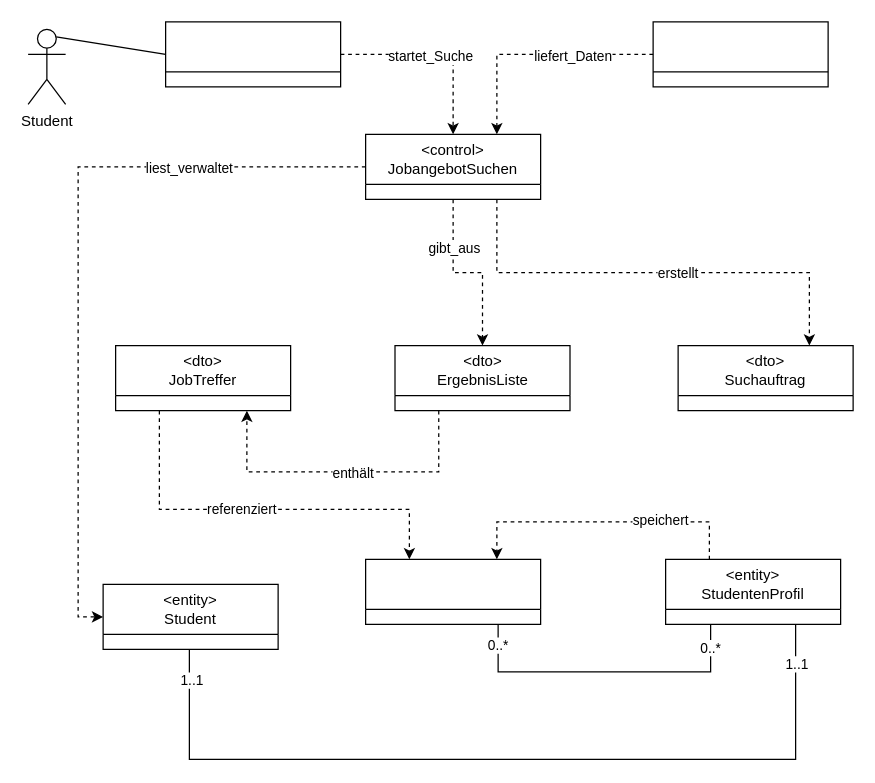
Image size: 875x783. Some labels were removed from this diagram. The shapes that lost their labels are listed below. From the top down, each one's box as (x1, y1, x2, y2) in pixels, then its label:
(164, 21, 341, 87): <boundary> SucheDialog
(652, 21, 828, 87): <boundary> ErgebnisSeite
(364, 558, 541, 624): <entity> JobAngebot
